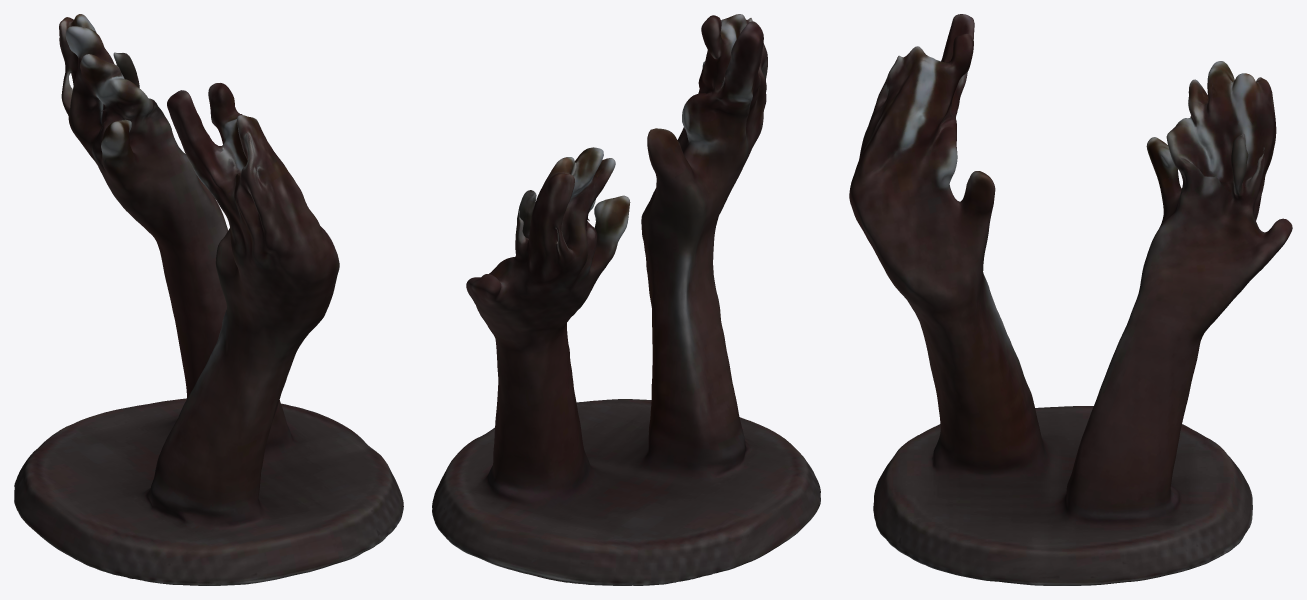
File: 8e25c7413cfe_hands_sculpture__3d.fbx
3 renders of one model, left to right at view 1: azimuth 30°, elevation 25°; view 2: azimuth 150°, elevation 25°; view 3: azimuth 270°, elevation 25°, orthographic. The views are drawn at different scales.
Parts seen in each view (by area): view 1: high_poly; view 2: high_poly; view 3: high_poly.
Boxes of the visible parts, box(x1,y1,x2,y2) form: high_poly: box(14, 14, 403, 585); high_poly: box(432, 14, 820, 585); high_poly: box(849, 14, 1292, 585).
Size of the model in its own units: 72.58 by 100 by 87.24.
